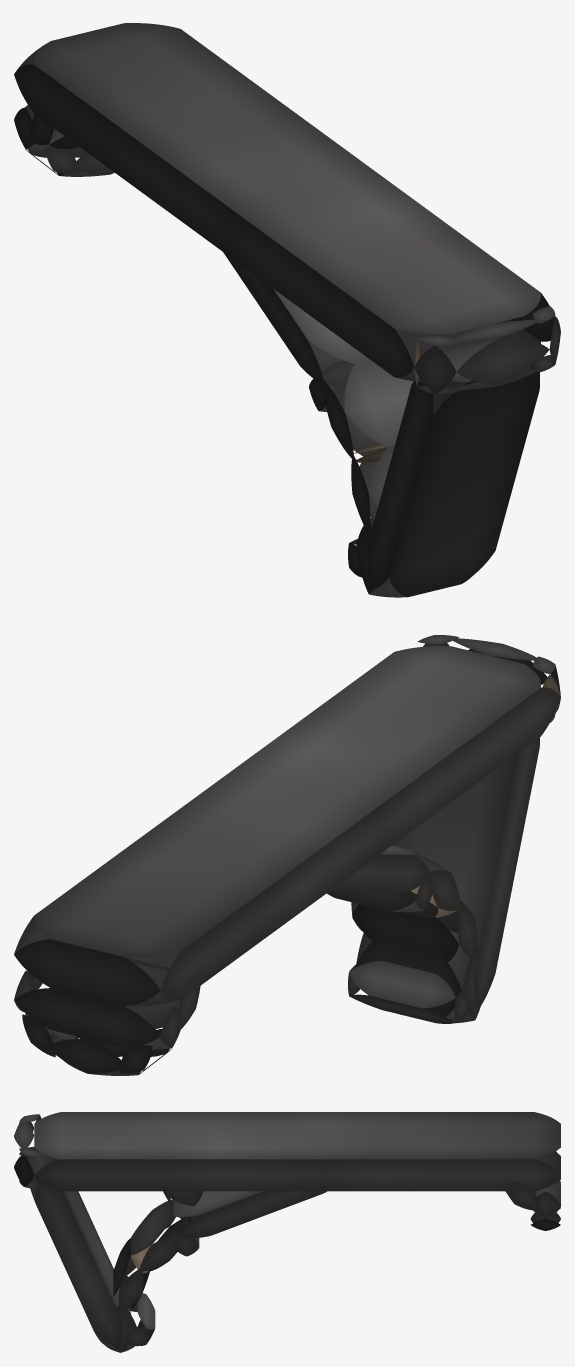
The model's file is udp_9_grip_light.fbx.
3 renders of one model, top to bottom at view 1: azimuth 30°, elevation 25°; view 2: azimuth 150°, elevation 25°; view 3: azimuth 270°, elevation 25°, orthographic. The views are drawn at different scales.
Parts seen in each view (by area): view 1: cube, cube_9, cube_6, cube_8, cube_3, cube_12, cube_2, cube_10, cube_1, cube_14, cube_15, cube_16 (+2 smaller); view 2: cube, cube_9, cube_16, cube_7, cube_12, cube_10, cube_8, cube_11, cube_14, cube_5, cube_6, cube_3 (+3 smaller); view 3: cube, cube_9, cube_8, cube_6, cube_12, cube_7, cube_16, cube_10, cube_14, cube_1, cube_4, cube_5 (+1 smaller).
Part boxes in pixels (x1,y1,x2,y2): cube: (14, 23, 555, 382); cube_9: (367, 338, 539, 596); cube_6: (322, 360, 413, 462); cube_8: (223, 252, 370, 389); cube_3: (452, 319, 549, 390); cube_12: (351, 445, 394, 532); cube_2: (414, 336, 458, 394); cube_10: (356, 517, 469, 597); cube_1: (533, 306, 560, 372); cube_14: (30, 109, 79, 148); cube_15: (25, 136, 78, 175); cube_16: (14, 105, 72, 150); cube: (14, 646, 560, 1005); cube_9: (368, 737, 539, 1010); cube_16: (14, 970, 183, 1049); cube_7: (348, 961, 470, 1023); cube_12: (351, 886, 476, 961); cube_10: (356, 933, 485, 1023); cube_8: (330, 845, 430, 892); cube_11: (47, 1033, 140, 1075); cube_14: (30, 957, 201, 1031); cube_5: (327, 876, 432, 912); cube_6: (401, 852, 460, 918); cube_3: (451, 638, 547, 684); cube: (34, 1112, 560, 1191); cube_9: (26, 1148, 131, 1347); cube_8: (173, 1191, 326, 1238); cube_6: (130, 1199, 191, 1273); cube_12: (113, 1238, 151, 1312); cube_7: (127, 1293, 155, 1346); cube_16: (533, 1151, 560, 1218); cube_10: (103, 1274, 137, 1352); cube_14: (505, 1181, 539, 1210); cube_1: (14, 1148, 39, 1188); cube_4: (163, 1191, 215, 1207); cube_5: (174, 1217, 199, 1256).
Size of the model in its own units: 6.45 by 12.77 by 31.64.
Materials: 1 (1 with a texture image).
